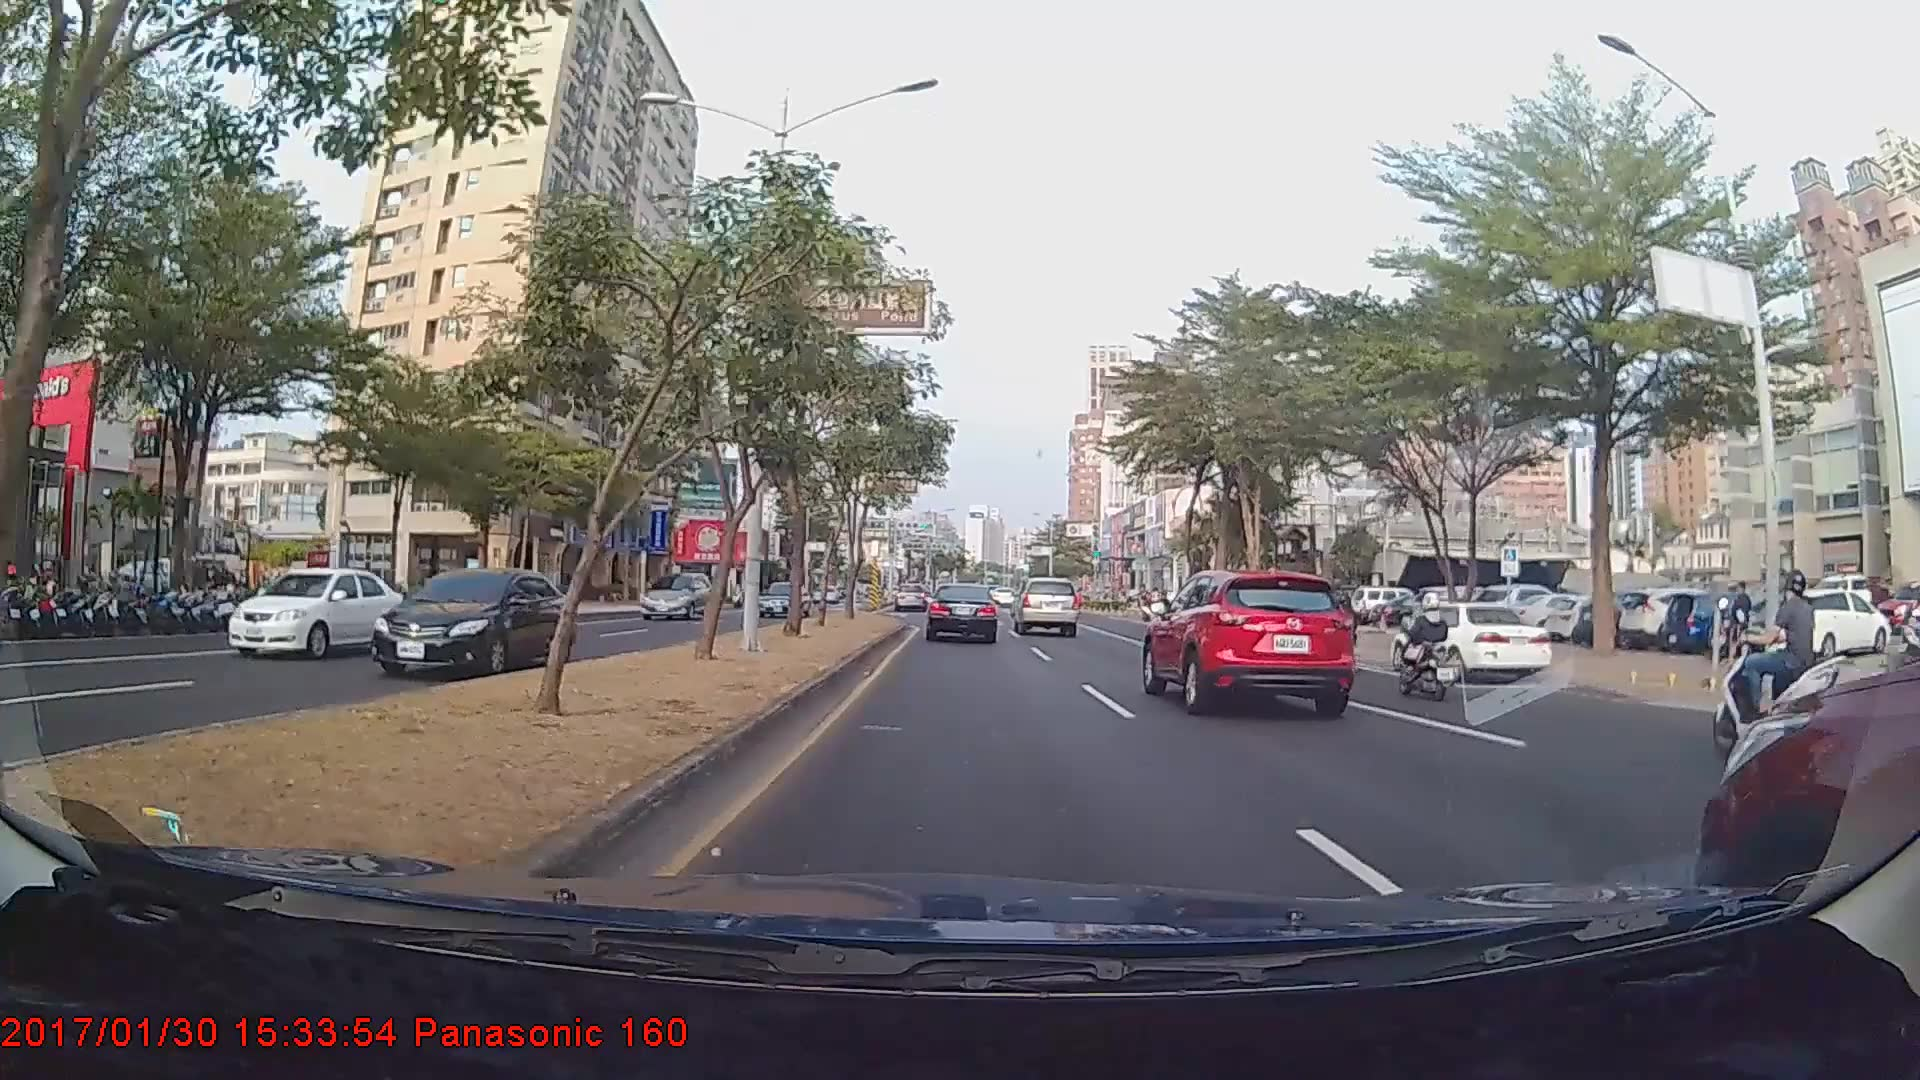pedestrian: (1726, 578, 1757, 661)
rider: (1711, 555, 1836, 759), (1387, 586, 1462, 702)
vehicle: (1653, 529, 1915, 1075), (1141, 561, 1357, 715), (361, 563, 572, 677), (227, 565, 417, 657), (1387, 600, 1553, 684), (1768, 585, 1895, 661), (925, 582, 999, 643), (1012, 575, 1079, 637), (638, 567, 714, 617), (759, 581, 809, 620), (894, 583, 929, 612)
